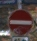No entry: (6, 6, 31, 35)
